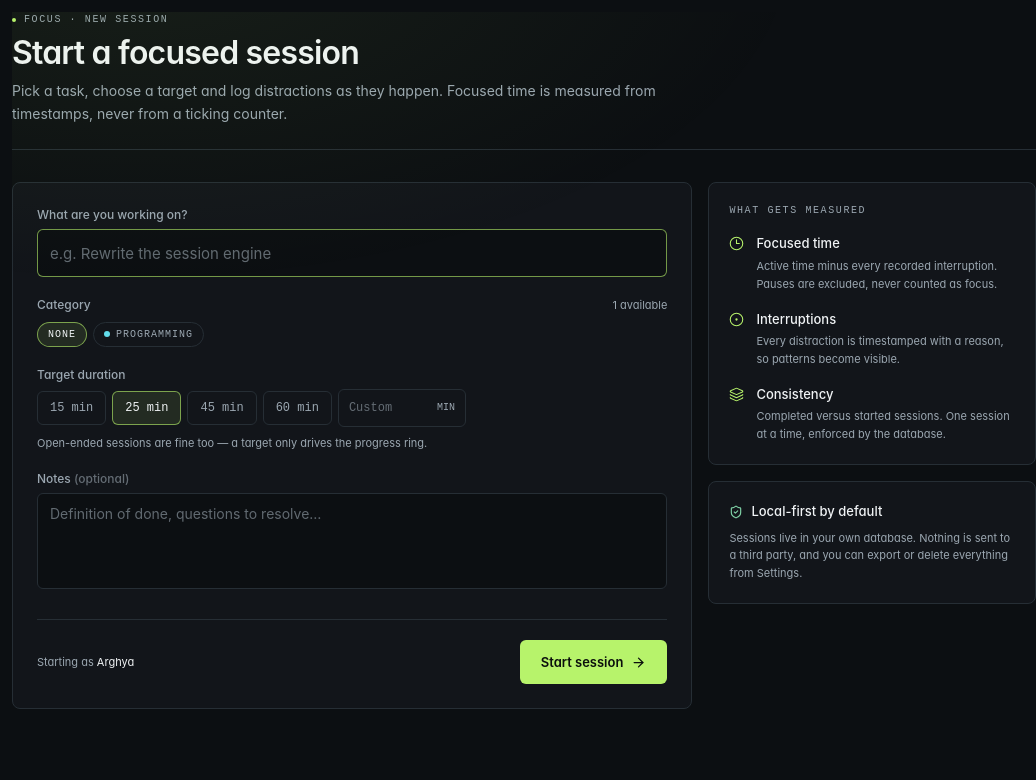
Scenario: SessionSetup › requires a title before starting
The image size is (1036, 780).
What coordinates should you click on to do the following:
click the button "Start session"
I would click on:
 (594, 662)
Its box is [520,640,667,684].
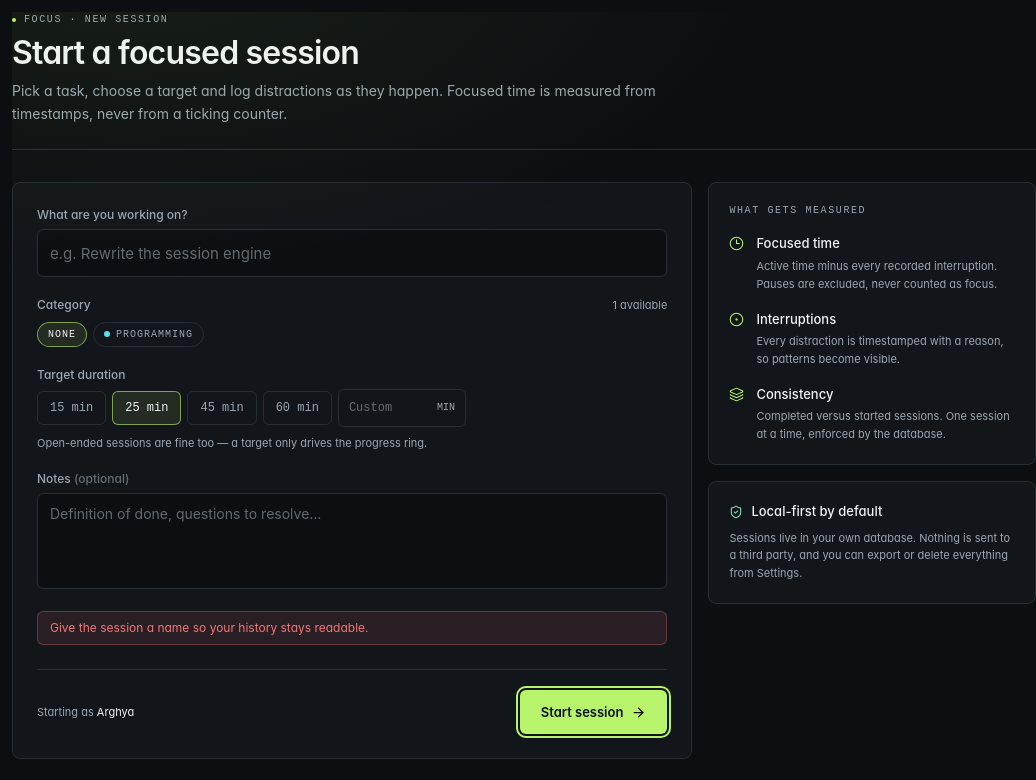
Expected: the message shows "Give the session a name", [50,620,368,635]
